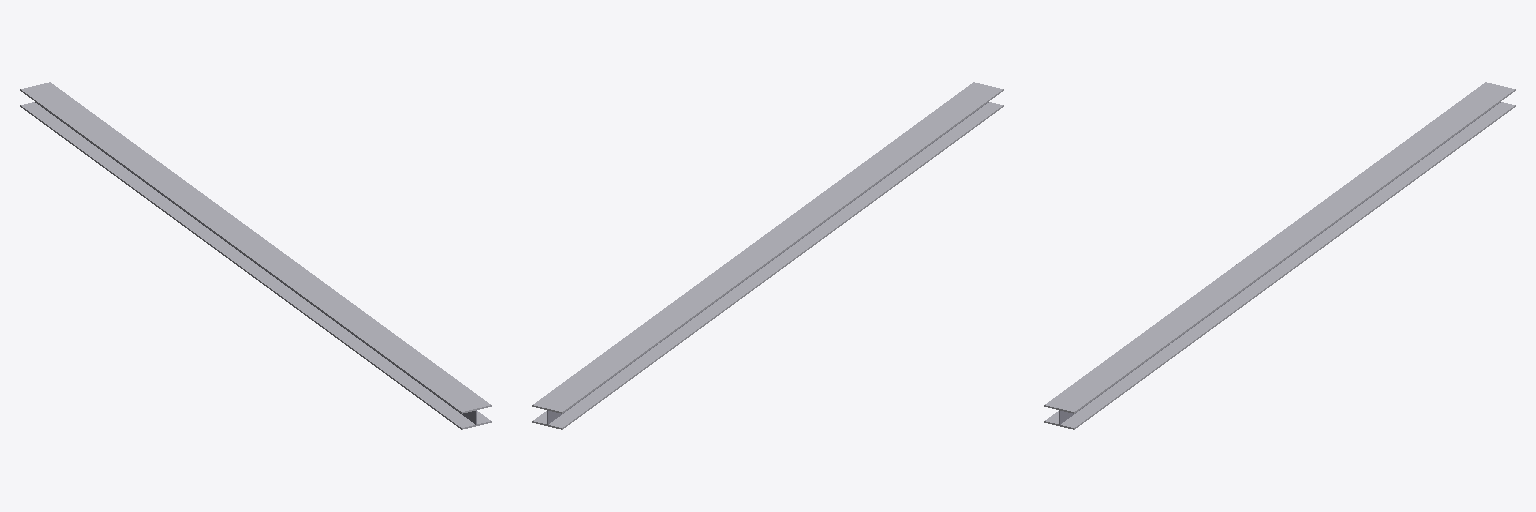
URDF robot description (h_bar):
<?xml version="1.0" ?>
<!-- =================================================================================== -->
<!-- |    This document was autogenerated by xacro from h_bar.xacro                    | -->
<!-- |    EDITING THIS FILE BY HAND IS NOT RECOMMENDED                                 | -->
<!-- =================================================================================== -->
<robot name="h_bar">
  <link name="world"/>
  <!-- Bottom leg (aligned with z-axis after rotation, below origin) -->
  <link name="hbar_bottom_leg">
    <visual>
      <origin rpy="0 1.57079633 0" xyz="0 0 0"/>
      <geometry>
        <!-- thickness x, profile width y, leg length along local z -->
        <box size="0.01 5.0 0.195"/>
      </geometry>
      <material name="hbar_material_bottom">
        <!-- Brushed steel-like gray -->
        <color rgba="0.75 0.75 0.78 1.0"/>
      </material>
    </visual>
    <collision>
      <origin rpy="0 1.57079633 0" xyz="0 0 0"/>
      <geometry>
        <box size="0.01 5.0 0.195"/>
      </geometry>
    </collision>
    <inertial>
      <origin rpy="0 0 0" xyz="0 0 0"/>
      <mass value="0.3333333333333333"/>
      <inertia ixx="0.6955006944444444" ixy="0.0" ixz="0.0" iyy="0.0010590277777777779" iyz="0.0" izz="0.6944472222222222"/>
    </inertial>
  </link>
  <!-- Top leg (aligned with z-axis after rotation, above origin) -->
  <link name="hbar_top_leg">
    <visual>
      <origin rpy="0 1.57079633 0" xyz="0 0 0"/>
      <geometry>
        <box size="0.01 5.0 0.195"/>
      </geometry>
      <material name="hbar_material_top">
        <!-- Brushed steel-like gray -->
        <color rgba="0.75 0.75 0.78 1.0"/>
      </material>
    </visual>
    <collision>
      <origin rpy="0 1.57079633 0" xyz="0 0 0"/>
      <geometry>
        <box size="0.01 5.0 0.195"/>
      </geometry>
    </collision>
    <inertial>
      <origin rpy="0 0 0" xyz="0 0 0"/>
      <mass value="0.3333333333333333"/>
      <inertia ixx="0.6955006944444444" ixy="0.0" ixz="0.0" iyy="0.0010590277777777779" iyz="0.0" izz="0.6944472222222222"/>
    </inertial>
  </link>
  <!-- Crossbar: vertical (aligned with z-axis) at the origin -->
  <link name="hbar_crossbar">
    <visual>
      <!-- Thickness in x,y, length in z -->
      <origin rpy="0 0 0" xyz="0 0 0"/>
      <geometry>
        <box size="0.01 5.0 0.1"/>
      </geometry>
      <material name="hbar_material_cross">
        <!-- Slightly darker steel for visual contrast -->
        <color rgba="0.65 0.65 0.7 1.0"/>
      </material>
    </visual>
    <collision>
      <origin rpy="0 0 0" xyz="0 0 0"/>
      <geometry>
        <box size="0.01 5.0 0.1"/>
      </geometry>
    </collision>
    <inertial>
      <origin rpy="0 0 0" xyz="0 0 0"/>
      <mass value="0.3333333333333333"/>
      <inertia ixx="0.6947222222222222" ixy="0.0" ixz="0.0" iyy="0.0002805555555555556" iyz="0.0" izz="0.6944472222222222"/>
    </inertial>
  </link>
  <!-- Fix crossbar to world; its center is at the macro pose -->
  <joint name="hbar_cross_fix" type="fixed">
    <parent link="world"/>
    <child link="hbar_crossbar"/>
    <origin rpy="0 0 0" xyz="0 0 0"/>
  </joint>
  <!-- Top leg: translated +L_leg/2 in x and +L_span/2 in z relative to crossbar -->
  <joint name="hbar_top_fix" type="fixed">
    <parent link="hbar_crossbar"/>
    <child link="hbar_top_leg"/>
    <origin rpy="0 0.0 0" xyz="0 0 0.05"/>
  </joint>
  <!-- Bottom leg: translated +L_leg/2 in x and -L_span/2 in z relative to crossbar -->
  <joint name="hbar_bottom_fix" type="fixed">
    <parent link="hbar_crossbar"/>
    <child link="hbar_bottom_leg"/>
    <origin rpy="0 0 0" xyz="0 0 -0.05"/>
  </joint>
</robot>

--- What the picture shows (computed from the rendered views, not written in the file) ---
The picture shows the robot from 3 angles, left to right: view 1: azimuth 30°, elevation 25°; view 2: azimuth 150°, elevation 25°; view 3: azimuth 330°, elevation 25°; orthographic projection.
Robot: h_bar — 4 links, 3 joints (3 fixed); root link world; default pose: every joint at zero.
Visible links, largest first — view 1: hbar_top_leg, hbar_bottom_leg; view 2: hbar_top_leg, hbar_bottom_leg; view 3: hbar_top_leg, hbar_bottom_leg.
Boxes of the visible links, <box> form: hbar_top_leg: <box>20,82,491,413</box>; hbar_bottom_leg: <box>20,102,491,429</box>; hbar_top_leg: <box>532,82,1003,413</box>; hbar_bottom_leg: <box>532,102,1003,429</box>; hbar_top_leg: <box>1044,82,1515,413</box>; hbar_bottom_leg: <box>1044,102,1515,429</box>.
Bounding box of the posed robot: 0.195 × 5 × 0.11 m (x, y, z).
Geometry: primitives only (box / cylinder / sphere), no mesh files.
